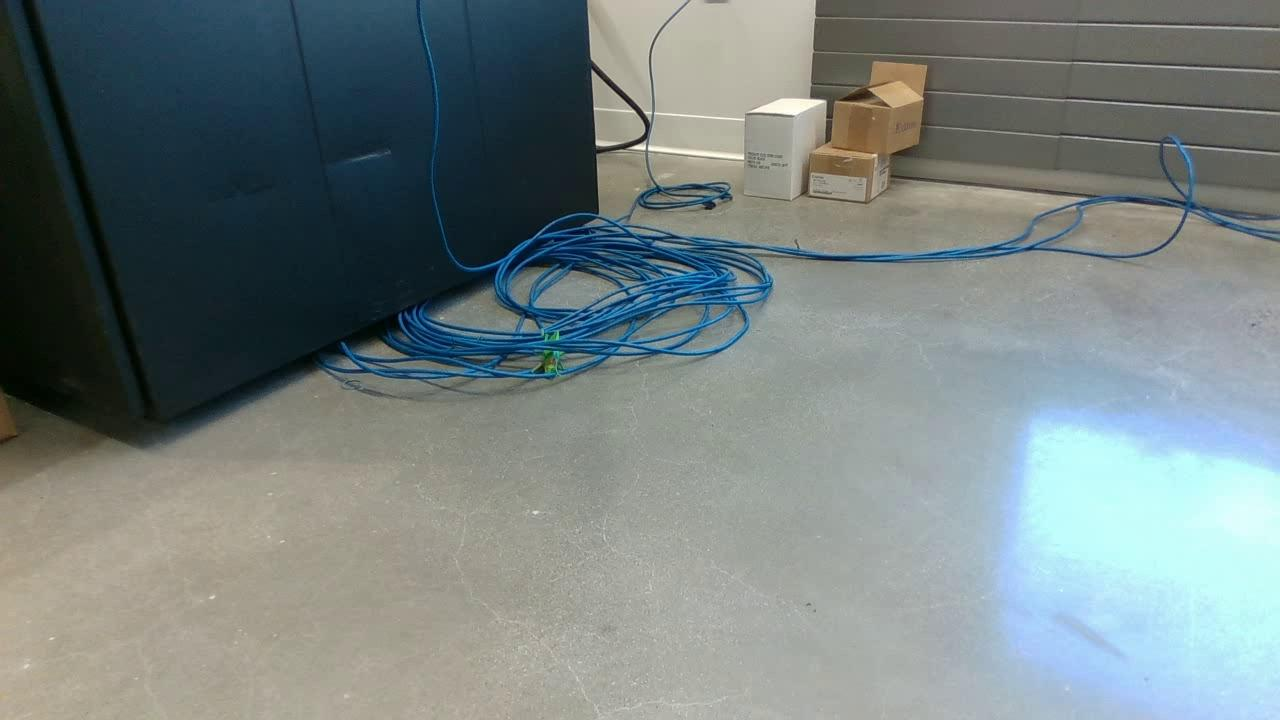grasshopper: (543, 333, 566, 381)
